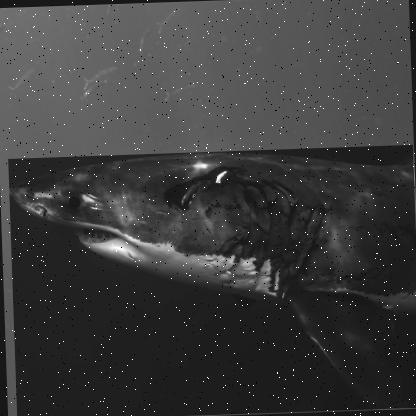white-shark: (7, 144, 415, 415)
